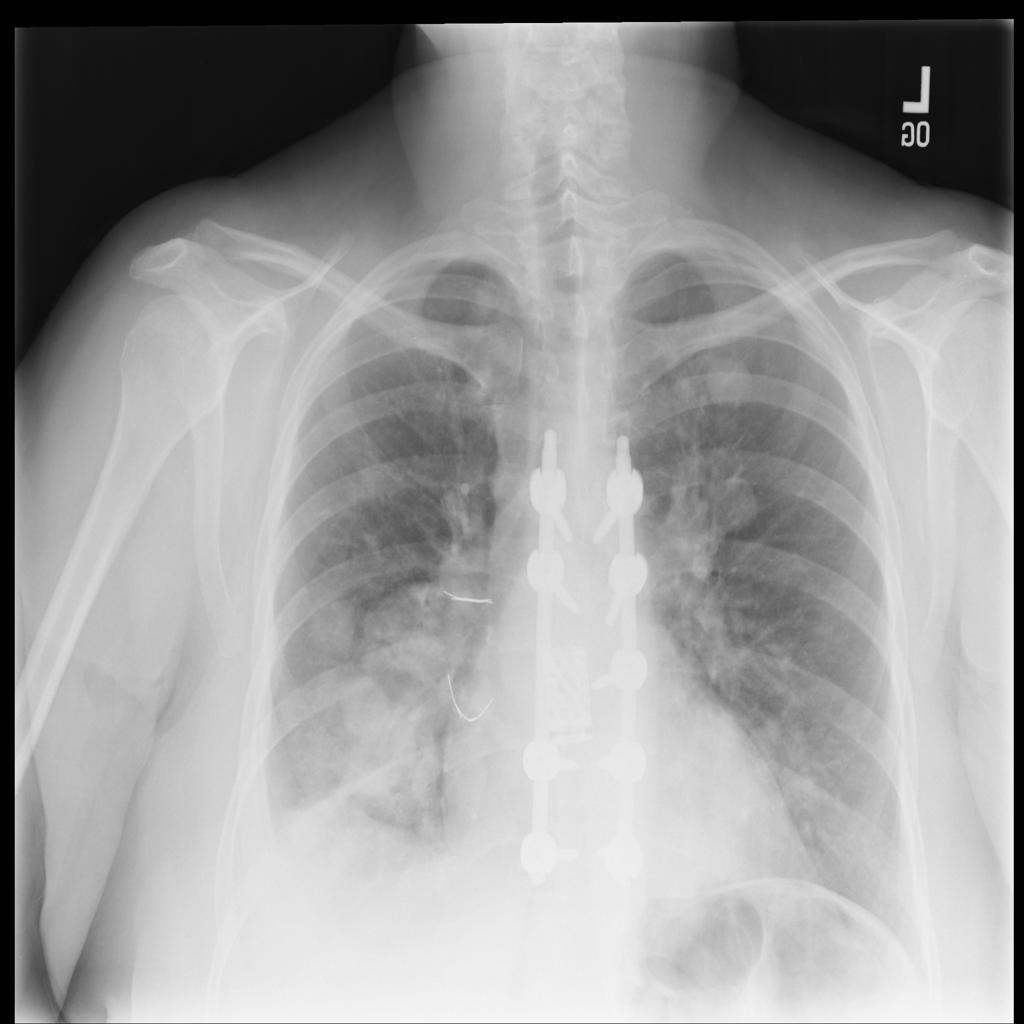nodule: (323, 675, 446, 825), (365, 588, 473, 703), (697, 342, 762, 421), (299, 585, 366, 660), (711, 463, 772, 544)
